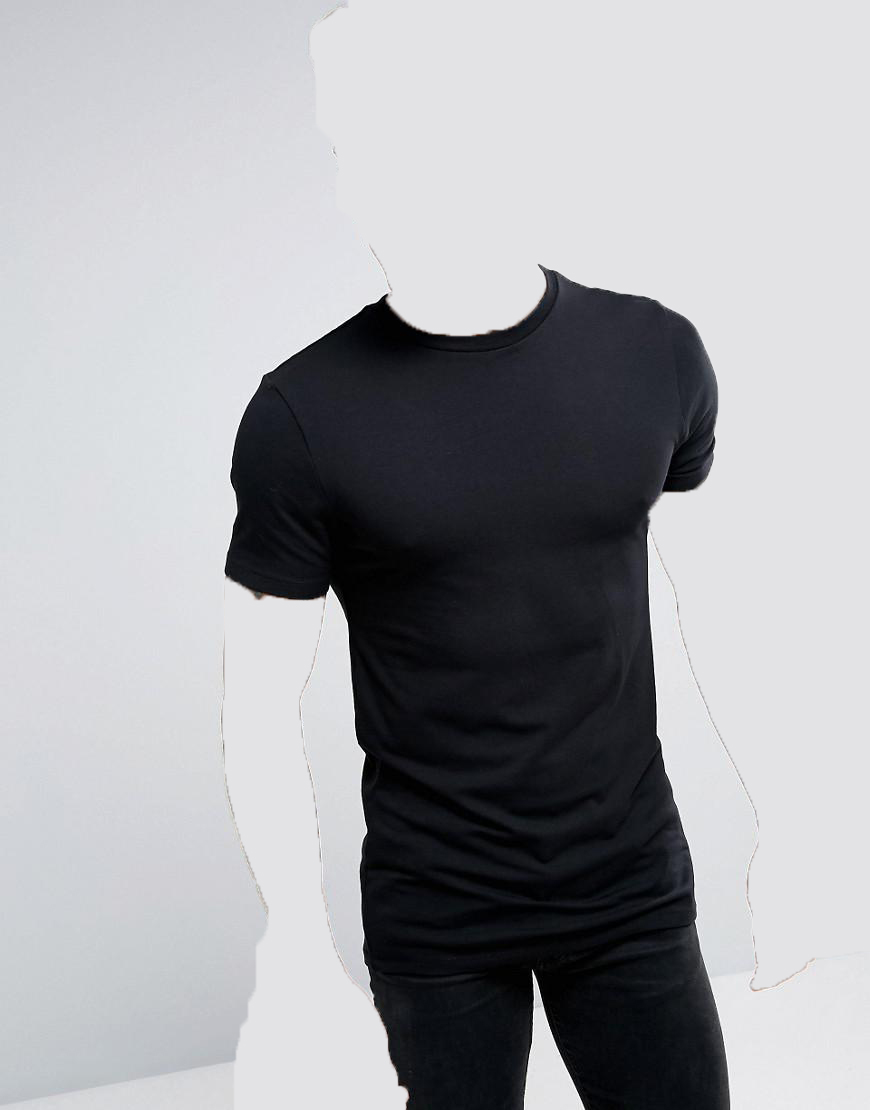teeshirt: (218, 268, 744, 942)
